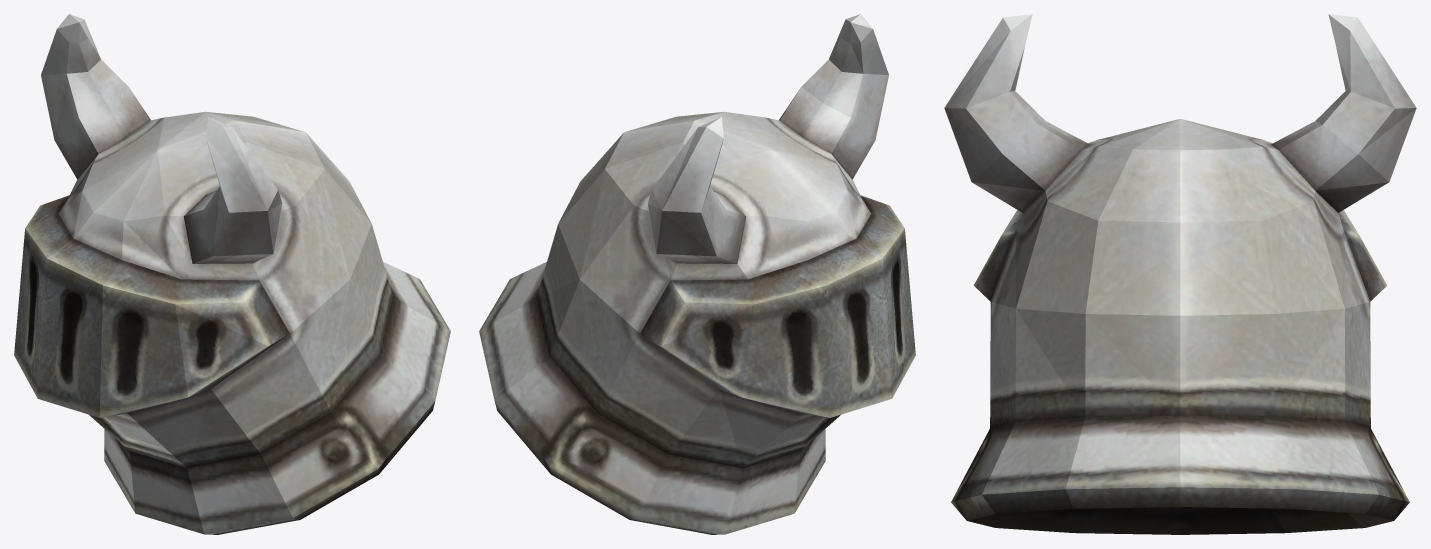
The model's file is Bison_hallowHelmet.obj.
The picture shows the model from 3 angles, left to right: view 1: azimuth 30°, elevation 25°; view 2: azimuth 150°, elevation 25°; view 3: azimuth 270°, elevation 25°; orthographic projection. The views are drawn at different scales.
Visible parts, largest first — view 1: Bison_hallowHelmet_tri; view 2: Bison_hallowHelmet_tri; view 3: Bison_hallowHelmet_tri.
Part boxes in pixels (x1,y1,x2,y2): Bison_hallowHelmet_tri: [14, 14, 450, 534]; Bison_hallowHelmet_tri: [479, 14, 915, 534]; Bison_hallowHelmet_tri: [944, 14, 1416, 534].
Size of the model in its own units: 0.6545 by 0.7341 by 0.6098.
Materials: 1 (1 with a texture image).
